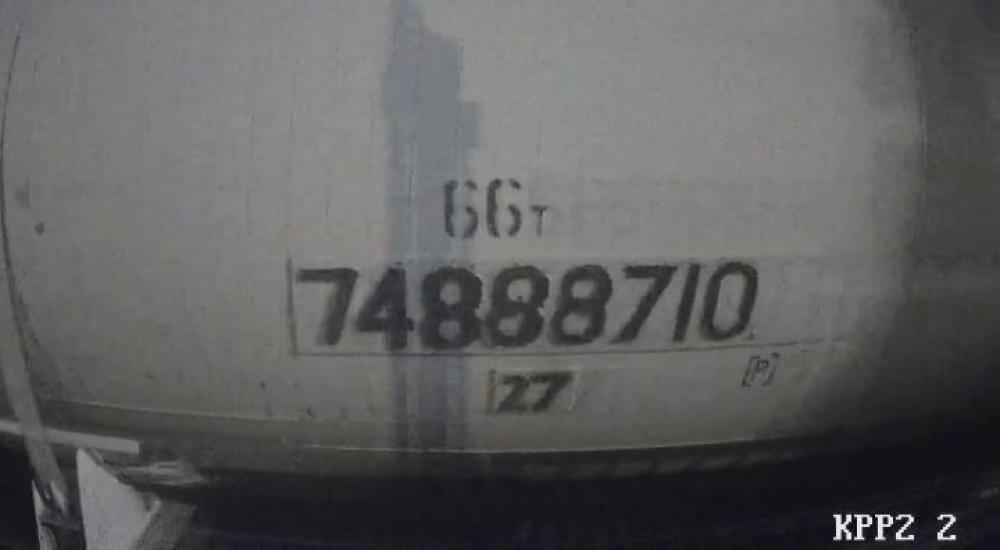Wagon-number: (286, 252, 766, 356)
